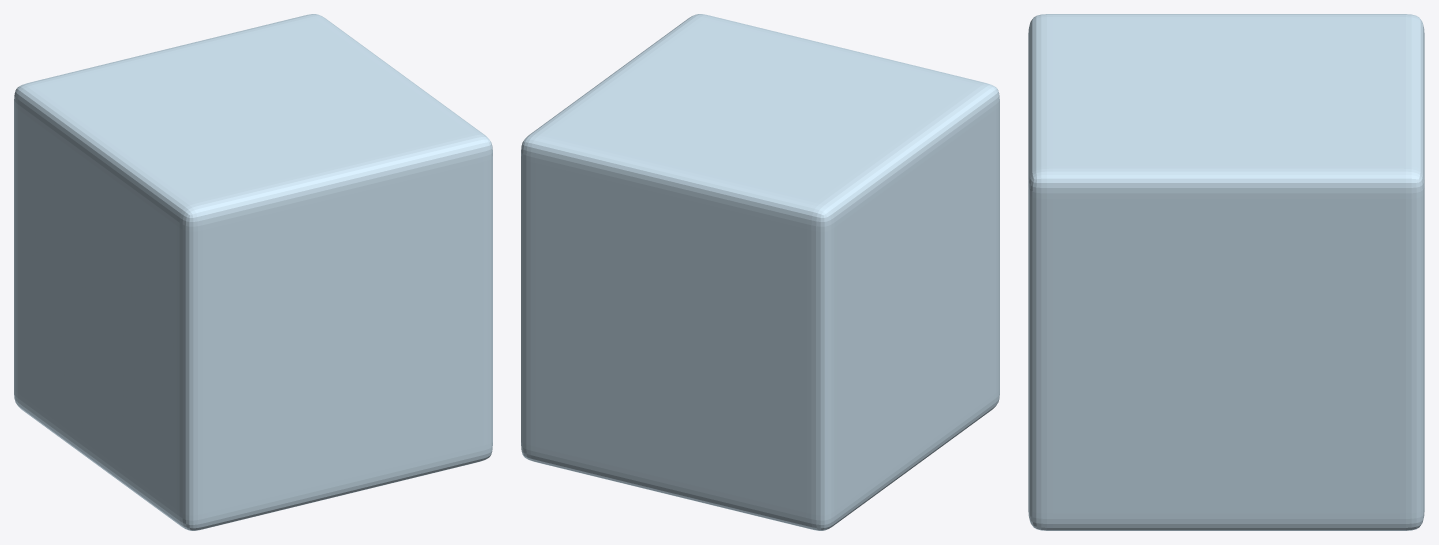
File: icecube.fbx
3 renders of one model, left to right at view 1: azimuth 30°, elevation 25°; view 2: azimuth 150°, elevation 25°; view 3: azimuth 270°, elevation 25°, orthographic. The views are drawn at different scales.
Parts seen in each view (by area): view 1: Cube; view 2: Cube; view 3: Cube.
Boxes of the visible parts, left/top/right/bottom form: Cube: left=14, top=14, right=492, bottom=530; Cube: left=521, top=14, right=999, bottom=530; Cube: left=1028, top=14, right=1424, bottom=530.
Bounding box in the file's own units: 200 × 200 × 200.
